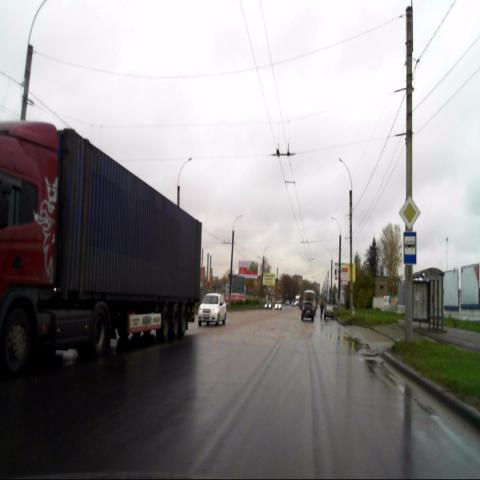2_1: (399, 194, 420, 230)
5_16: (404, 232, 416, 264)
